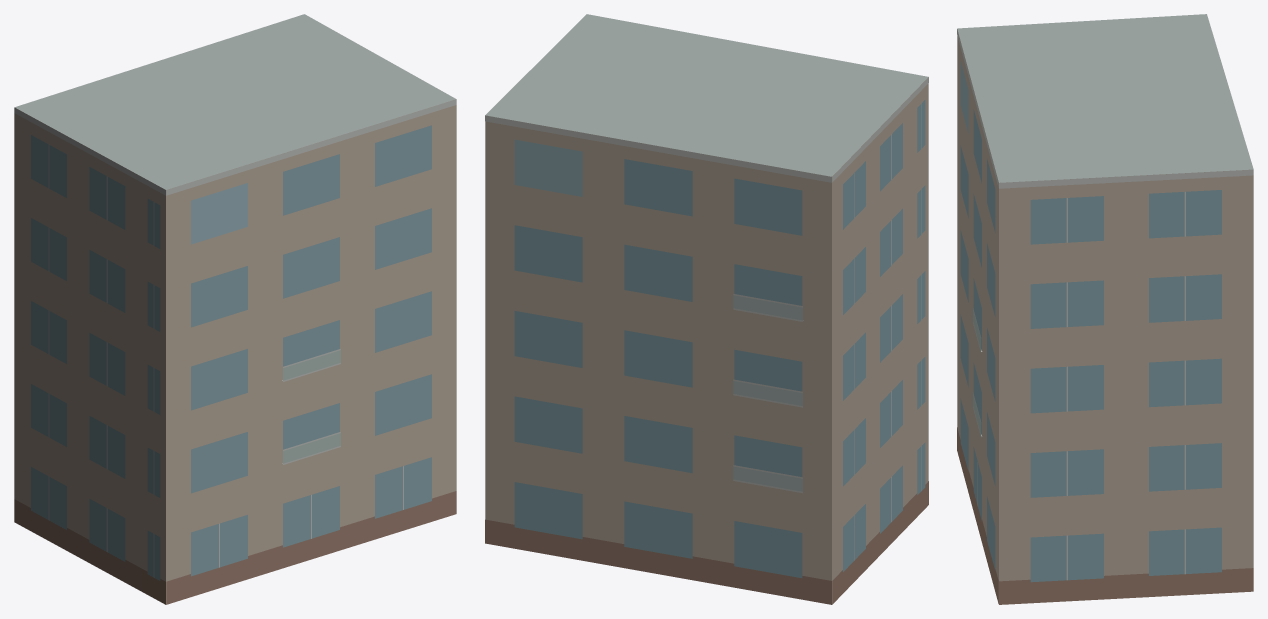
Rendered from survey-upis-32574420.glb.
3 renders of one model, left to right at view 1: azimuth 30°, elevation 25°; view 2: azimuth 150°, elevation 25°; view 3: azimuth 270°, elevation 25°, orthographic. The views are drawn at different scales.
Visible parts, largest first — view 1: survey-upis-32574420.tmp; view 2: survey-upis-32574420.tmp; view 3: survey-upis-32574420.tmp.
Part boxes in pixels (box(x1,y1,x2,y2)): survey-upis-32574420.tmp: box(14, 14, 456, 604); survey-upis-32574420.tmp: box(485, 14, 928, 604); survey-upis-32574420.tmp: box(957, 14, 1253, 604).
Bounding box in the file's own units: 15.02 × 17.5 × 11.16.
